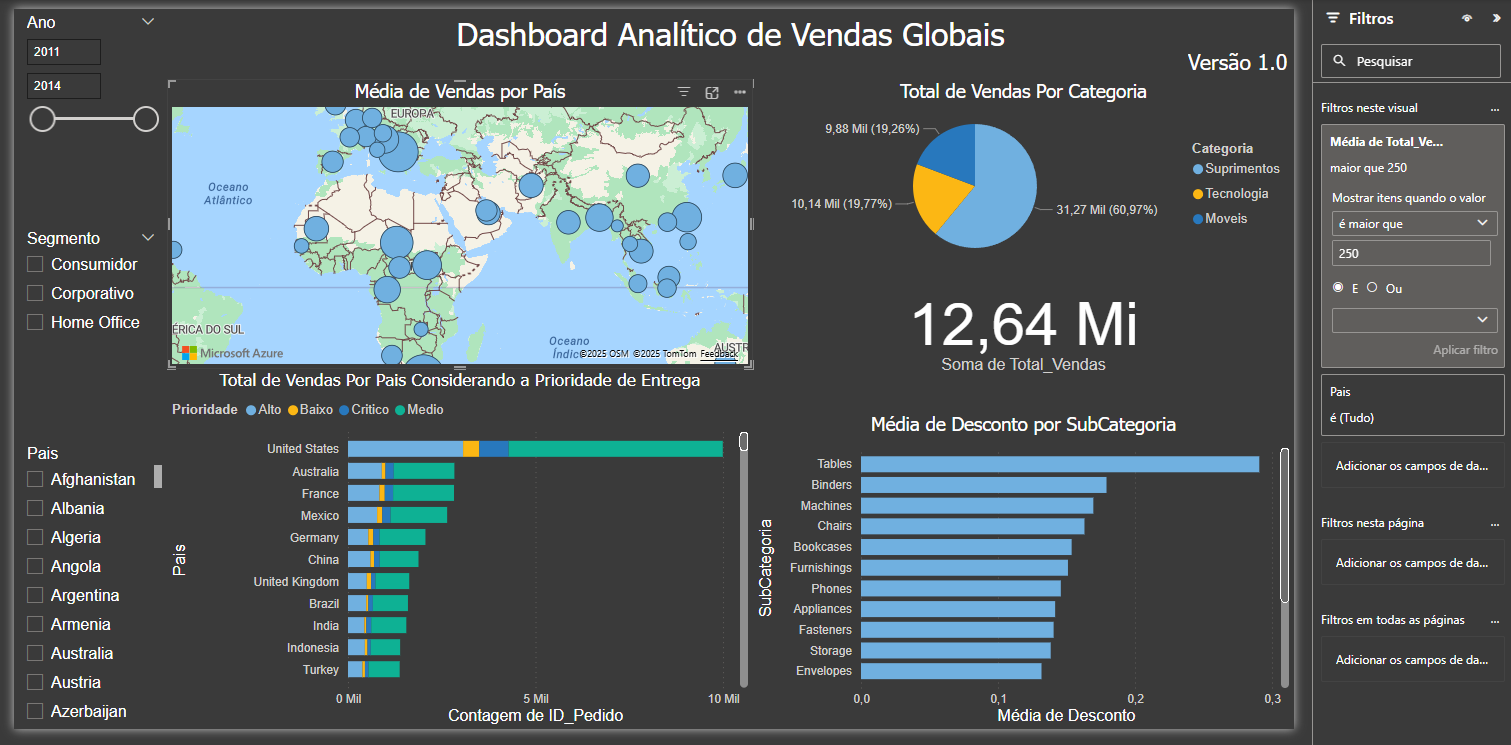

Layout of this report page (visuals, bound fields, positions):
{"tool":"powerbi","page":{"name":"Lab 01","canvas":[1280,720],"ordinal":0},"visuals":[{"type":"card","fields":{"Values":["Sum(dataset.Total_Vendas)"]},"box":[739,261,541,115],"z":0},{"type":"pieChart","title":"Total de Vendas Por Categoria","fields":{"Category":["dataset.Categoria"],"Y":["CountNonNull(dataset.ID_Pedido)"]},"box":[739,70,541,191],"z":1},{"type":"barChart","title":"Total de Vendas Por Pais Considerando  a Prioridade de Entrega","fields":{"Category":["dataset.Pais"],"Series":["dataset.Prioridade"],"Y":["CountNonNull(dataset.ID_Pedido)"]},"box":[153,360,586,360],"z":2},{"type":"clusteredBarChart","fields":{"Category":["dataset.SubCategoria"],"Y":["Avg(dataset.Desconto)"]},"box":[739,403,541,317],"z":3},{"type":"azureMap","title":"Média de Vendas por País","fields":{"Category":["dataset.Pais"],"Size":["Avg(dataset.Total_Vendas)"]},"box":[153,70,586,290],"z":4},{"type":"slicer","fields":{"Values":["dataset.Pais"]},"box":[0,431,153,289],"z":5},{"type":"slicer","fields":{"Values":["dataset.Segmento"]},"box":[0,216,153,215],"z":6},{"type":"slicer","fields":{"Values":["dataset.Data_Pedido.Variation.Hierarquia de datas.Ano"]},"box":[0,0,153,216],"z":7},{"type":"textbox","box":[153,0,1127,70],"z":8},{"type":"textbox","box":[1169,35,111,35],"z":9}]}

Visuals, with their boxes on the page's 1280x720 design canvas (x1, y1, x2, y2). These are canvas units, not pixel positions in the 1511x745 screenshot, which may show the page scaled, cropped or inside an application window:
card - Sum(dataset.Total_Vendas): {"left": 739, "top": 261, "right": 1280, "bottom": 376}
"Total de Vendas Por Categoria" pieChart: {"left": 739, "top": 70, "right": 1280, "bottom": 261}
"Total de Vendas Por Pais Considerando  a Prioridade de Entrega" barChart: {"left": 153, "top": 360, "right": 739, "bottom": 720}
clusteredBarChart - dataset.SubCategoria x Avg(dataset.Desconto): {"left": 739, "top": 403, "right": 1280, "bottom": 720}
"Média de Vendas por País" azureMap: {"left": 153, "top": 70, "right": 739, "bottom": 360}
slicer - dataset.Pais: {"left": 0, "top": 431, "right": 153, "bottom": 720}
slicer - dataset.Segmento: {"left": 0, "top": 216, "right": 153, "bottom": 431}
slicer - dataset.Data_Pedido.Variation.Hierarquia de datas.Ano: {"left": 0, "top": 0, "right": 153, "bottom": 216}
textbox: {"left": 153, "top": 0, "right": 1280, "bottom": 70}
textbox: {"left": 1169, "top": 35, "right": 1280, "bottom": 70}
